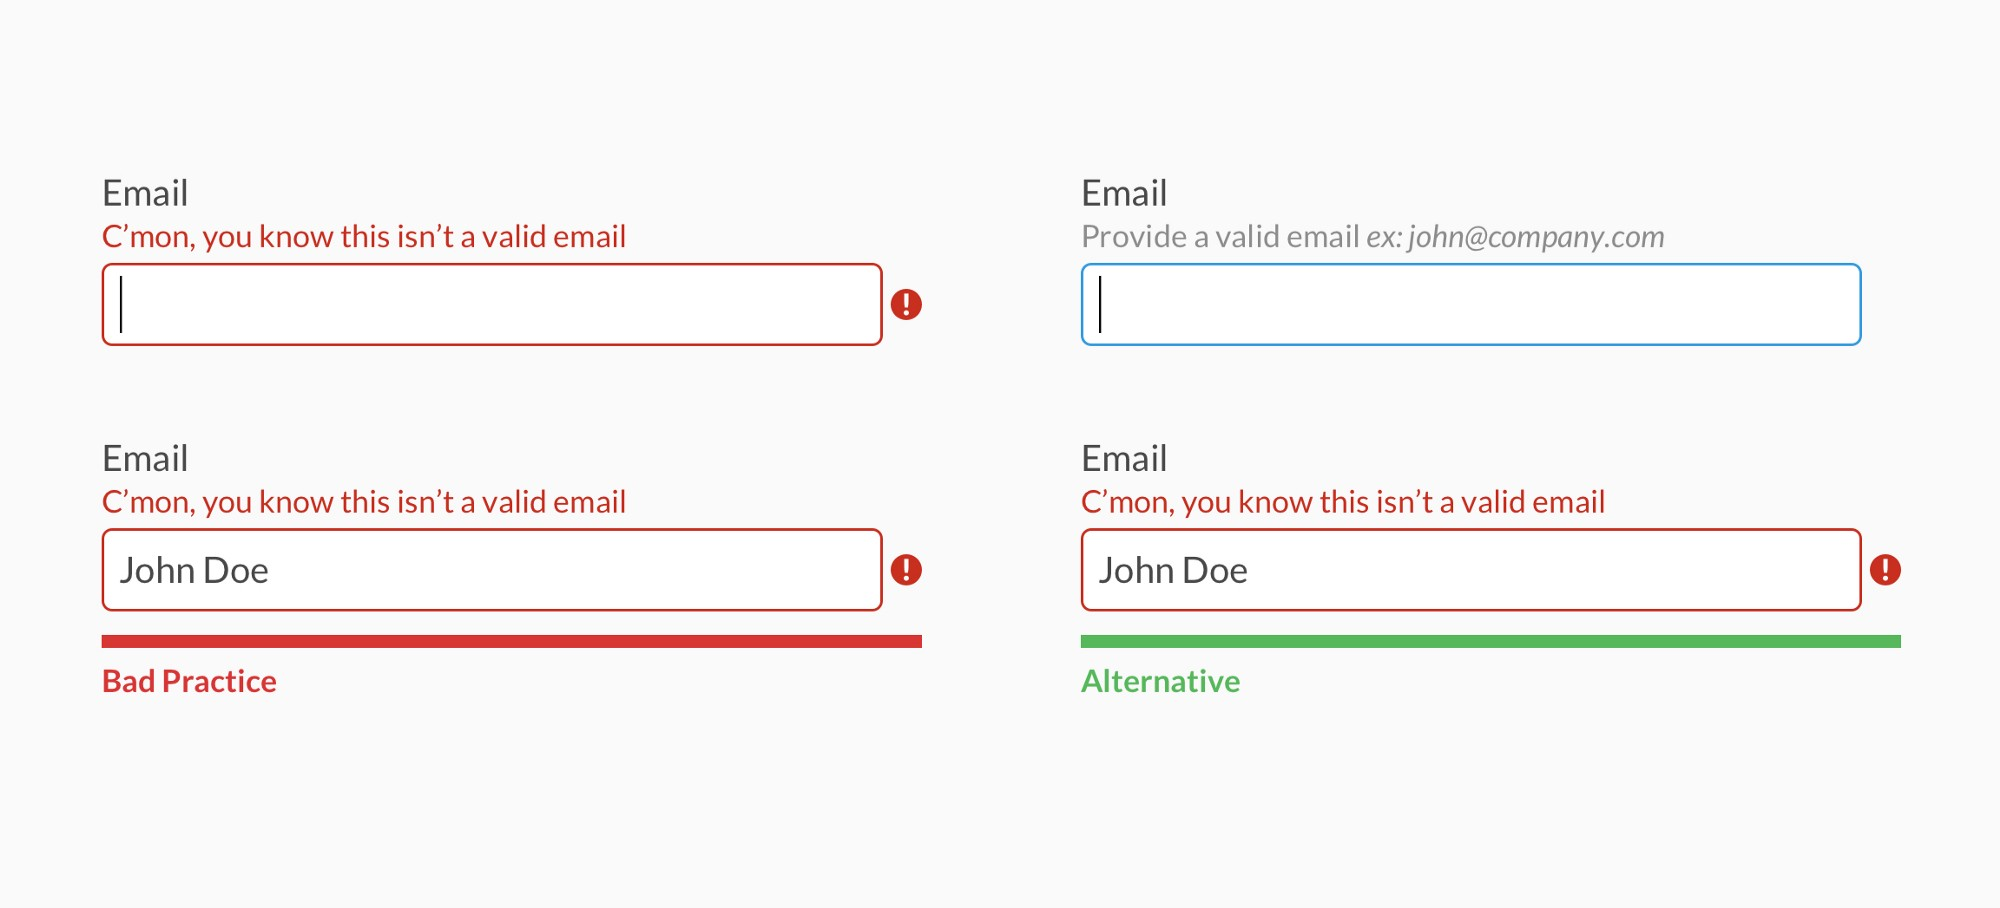error_field: (99, 524, 886, 613), (98, 261, 884, 349), (1077, 528, 1865, 613)
error_message: (98, 485, 628, 519), (1080, 487, 1608, 519), (98, 221, 630, 250), (98, 664, 282, 698)
